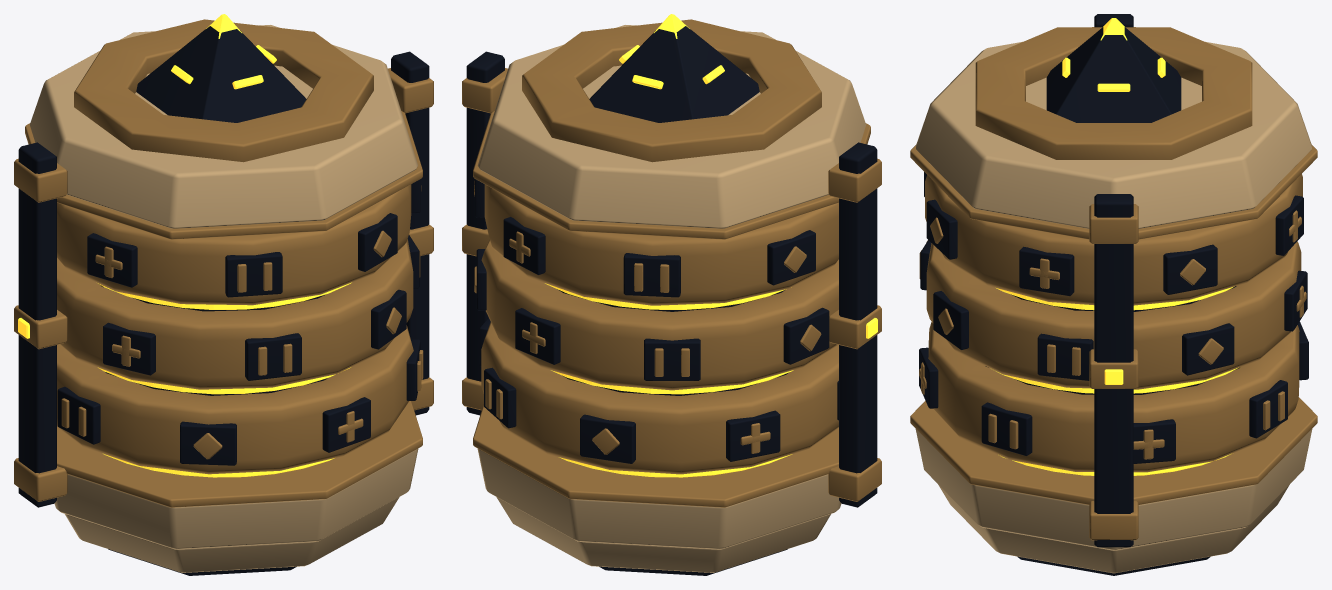
File: relic_cipher_box.glb
3 views of the same model, side by side, from view 1: azimuth 30°, elevation 25°; view 2: azimuth 150°, elevation 25°; view 3: azimuth 270°, elevation 25° (orthographic).
Visible parts, largest first — view 1: CipherBox_AntiqueGold_Rings, CipherBox_Sandstone_Caps, CipherBox_Obsidian_Body, CipherBox_Solar_Glow; view 2: CipherBox_AntiqueGold_Rings, CipherBox_Sandstone_Caps, CipherBox_Obsidian_Body, CipherBox_Solar_Glow; view 3: CipherBox_AntiqueGold_Rings, CipherBox_Sandstone_Caps, CipherBox_Obsidian_Body, CipherBox_Solar_Glow.
Part boxes in pixels (left/top/right/bottom): CipherBox_AntiqueGold_Rings: left=14, top=19, right=433, bottom=507; CipherBox_Sandstone_Caps: left=29, top=25, right=418, bottom=572; CipherBox_Obsidian_Body: left=18, top=26, right=429, bottom=575; CipherBox_Solar_Glow: left=18, top=14, right=351, bottom=477; CipherBox_AntiqueGold_Rings: left=462, top=19, right=881, bottom=507; CipherBox_Sandstone_Caps: left=477, top=25, right=866, bottom=572; CipherBox_Obsidian_Body: left=466, top=26, right=877, bottom=575; CipherBox_Solar_Glow: left=545, top=14, right=877, bottom=477; CipherBox_AntiqueGold_Rings: left=910, top=27, right=1317, bottom=540; CipherBox_Sandstone_Caps: left=915, top=41, right=1312, bottom=573; CipherBox_Obsidian_Body: left=919, top=14, right=1308, bottom=575; CipherBox_Solar_Glow: left=996, top=18, right=1239, bottom=475.
Size of the model in its own units: 1.31 by 1.61 by 1.16.
